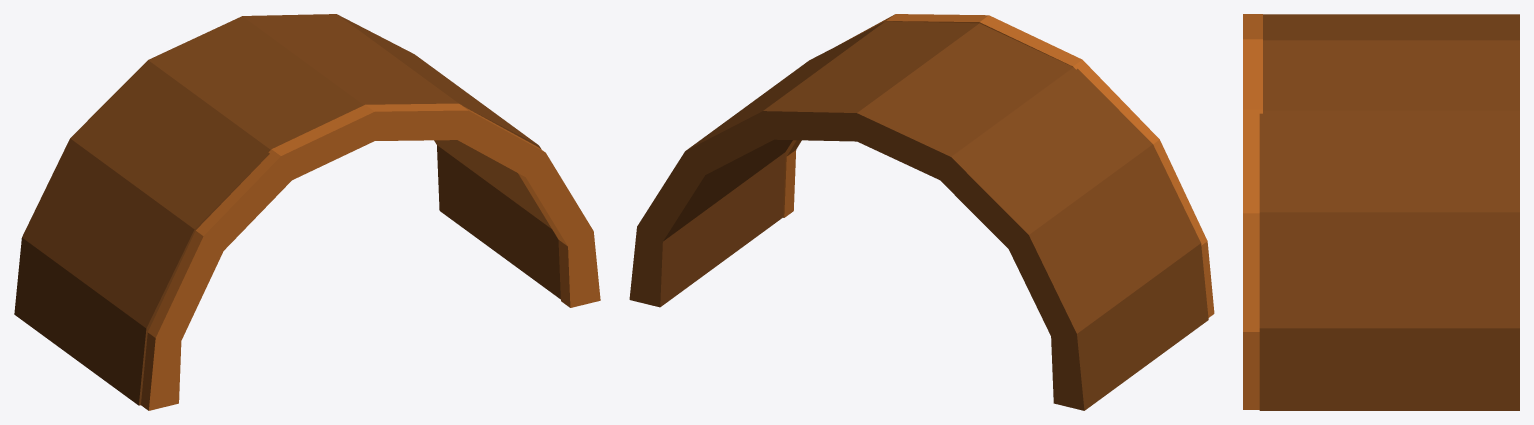
The model's file is Tunel.fbx.
The picture shows the model from 3 angles, left to right: view 1: azimuth 30°, elevation 25°; view 2: azimuth 150°, elevation 25°; view 3: azimuth 270°, elevation 25°; orthographic projection. The views are drawn at different scales.
Visible parts, largest first — view 1: Cylinder, Cylinder.001; view 2: Cylinder, Cylinder.001; view 3: Cylinder, Cylinder.001.
Part boxes in pixels (x1,y1,x2,y2): Cylinder: (14, 14, 560, 405); Cylinder.001: (141, 103, 600, 410); Cylinder: (629, 21, 1208, 410); Cylinder.001: (783, 14, 1214, 317); Cylinder: (1259, 14, 1519, 410); Cylinder.001: (1243, 14, 1262, 409).
Size of the model in its own units: 1376 by 704 by 692.
